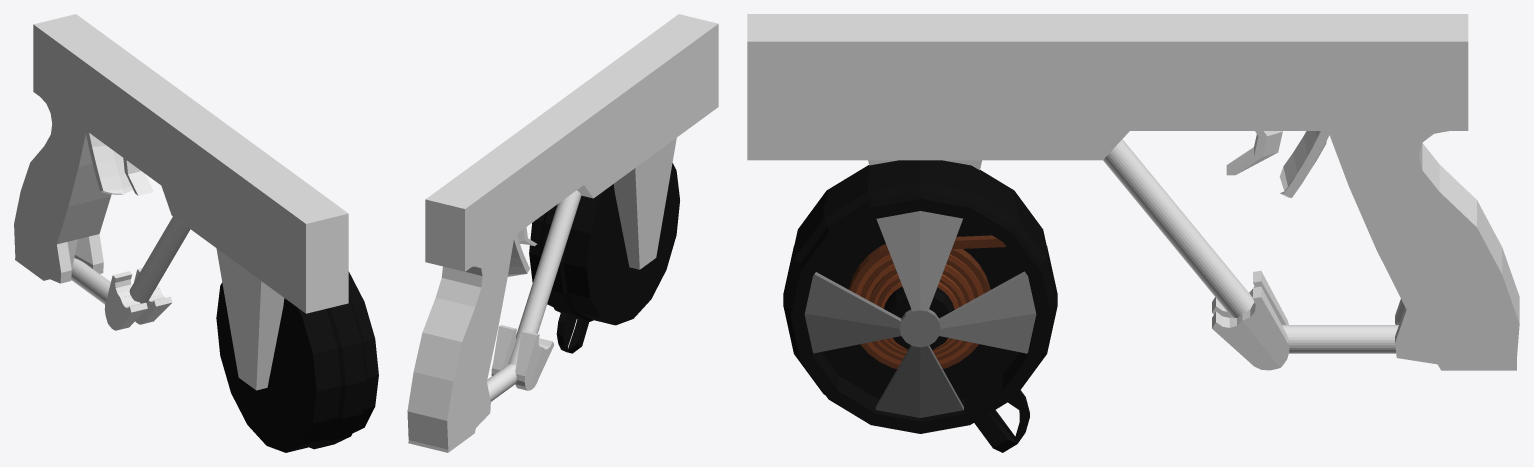
Rendered from grappleV2.fbx.
3 renders of one model, left to right at view 1: azimuth 30°, elevation 25°; view 2: azimuth 150°, elevation 25°; view 3: azimuth 270°, elevation 25°, orthographic. The views are drawn at different scales.
Parts seen in each view (by area): view 1: Cube, Cylinder, Cube.001, Cylinder.003, Cylinder.002; view 2: Cube, Cylinder, Cylinder.003, Cube.001, Cylinder.002; view 3: Cube, Cylinder, Cylinder.001, Cylinder.003, Cube.001, Cylinder.002, rope.007, rope.006, rope.005.
Boxes of the visible parts, <box> form: Cube: <box>14,14,348,390</box>; Cylinder: <box>216,271,378,452</box>; Cube.001: <box>104,268,172,330</box>; Cylinder.003: <box>129,216,190,303</box>; Cylinder.002: <box>71,258,110,304</box>; Cube: <box>407,14,718,452</box>; Cylinder: <box>529,163,679,353</box>; Cylinder.003: <box>508,190,581,365</box>; Cube.001: <box>491,325,553,390</box>; Cylinder.002: <box>487,364,516,401</box>; Cube: <box>747,14,1519,370</box>; Cylinder: <box>783,160,1057,452</box>; Cylinder.001: <box>804,211,1036,417</box>; Cylinder.003: <box>1103,139,1254,317</box>; Cube.001: <box>1212,270,1289,370</box>; Cylinder.002: <box>1282,325,1398,353</box>; rope.007: <box>848,244,990,369</box>; rope.006: <box>855,254,983,364</box>; rope.005: <box>860,259,978,360</box>.
Bounding box in the file's own units: 515 × 1339 × 2369.
